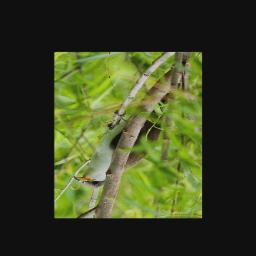Cuckoo: (70, 82, 188, 189)
